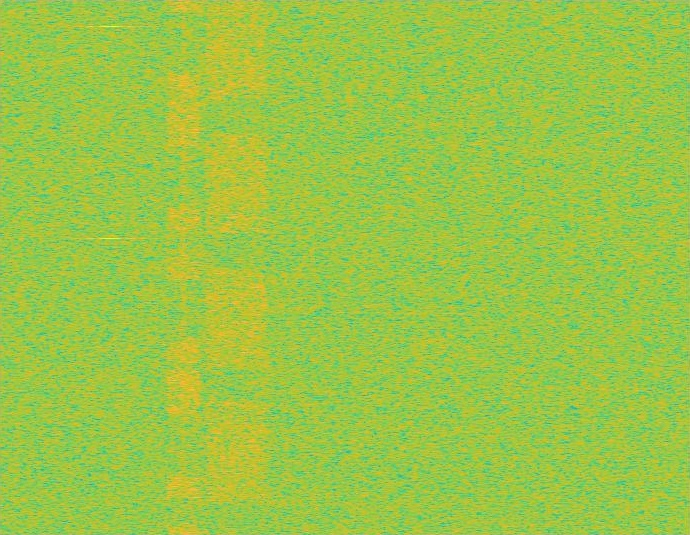5G: (202, 0, 271, 534)
DSSS: (181, 0, 186, 534)
LTE: (166, 0, 201, 534)
Radar: (103, 0, 117, 534)
